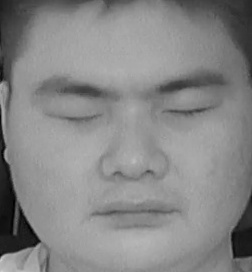blink: (165, 95, 219, 131), (52, 100, 103, 135)
mouth: (90, 188, 181, 233)
